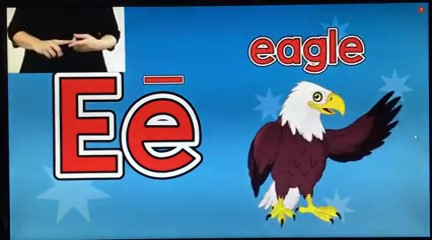E: (38, 32, 98, 59)
